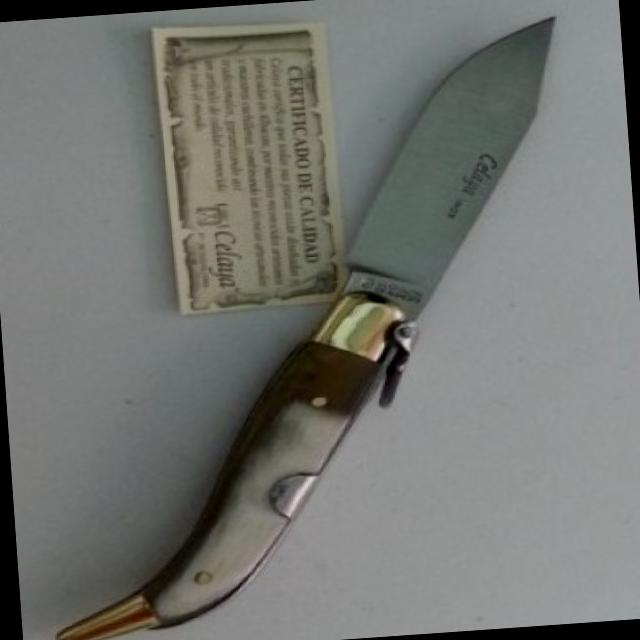knife: (308, 8, 590, 318)
